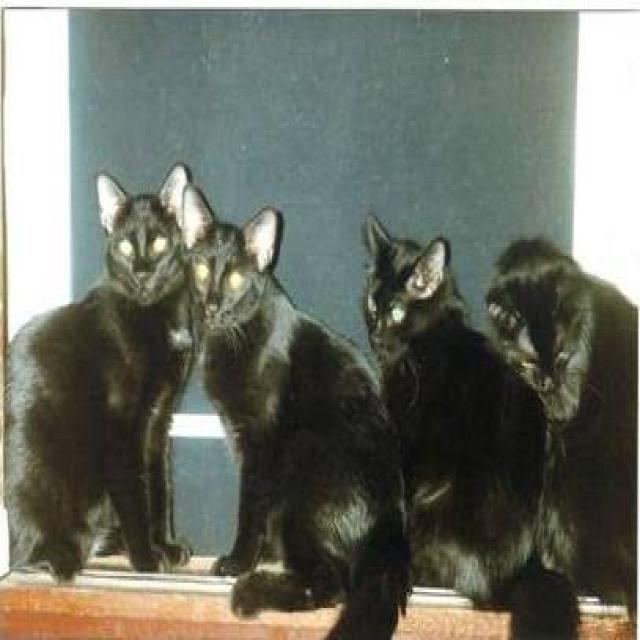cat: (181, 178, 412, 638), (3, 160, 197, 583), (484, 233, 637, 626)
